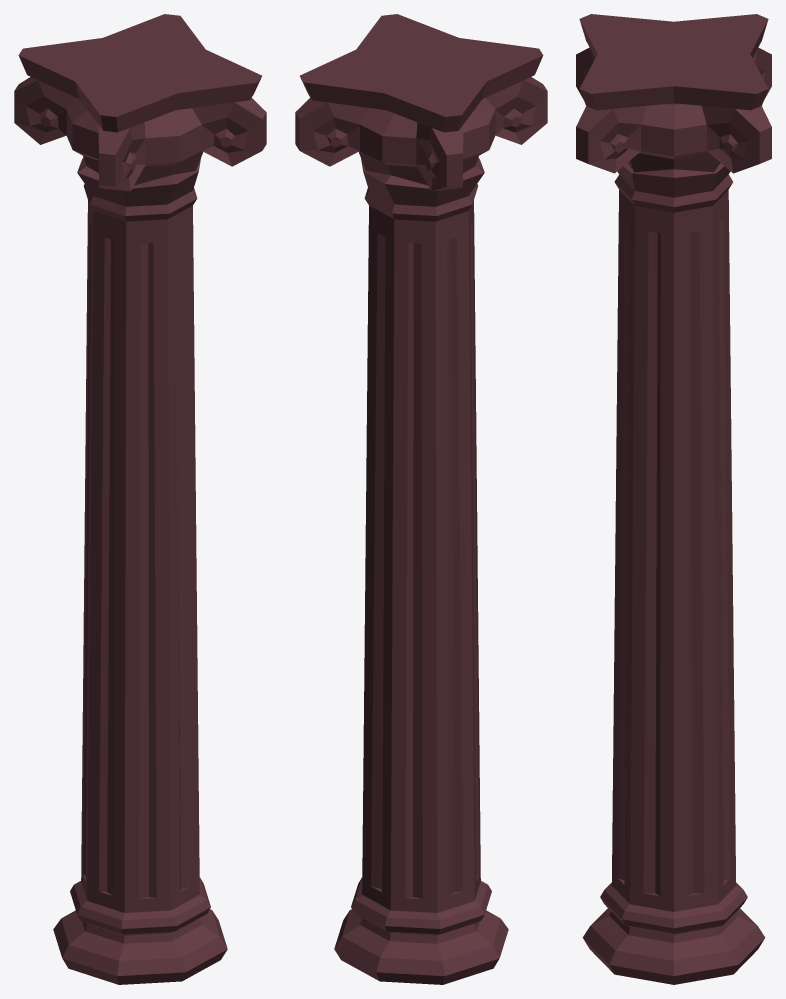
The model's file is SM_Pillar_Composite_Big_Empire.fbx.
3 renders of one model, left to right at view 1: azimuth 30°, elevation 25°; view 2: azimuth 150°, elevation 25°; view 3: azimuth 270°, elevation 25°, orthographic.
Parts seen in each view (by area): view 1: SM_Pillar_Composite_Big_Empire; view 2: SM_Pillar_Composite_Big_Empire; view 3: SM_Pillar_Composite_Big_Empire.
Boxes of the visible parts, x1,y1,x2,y2 form: SM_Pillar_Composite_Big_Empire: (14,14,266,984); SM_Pillar_Composite_Big_Empire: (295,14,547,984); SM_Pillar_Composite_Big_Empire: (576,14,771,984).
Size of the model in its own units: 2.01 by 10.15 by 2.01.
